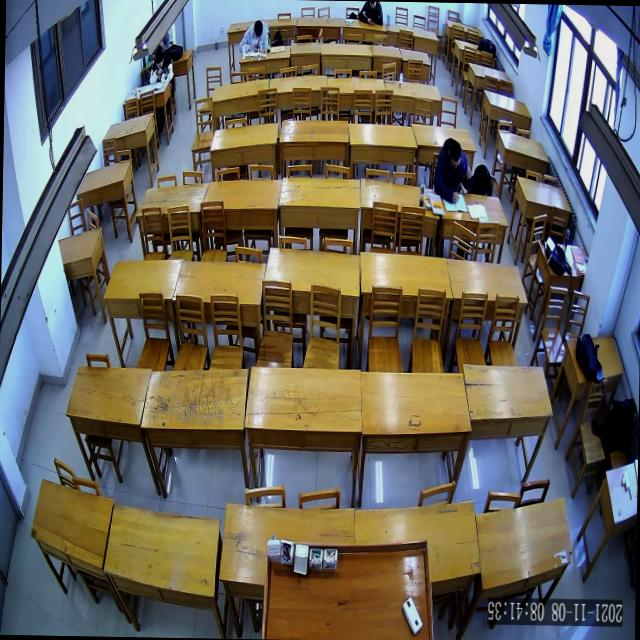down: (448, 140, 462, 170), (154, 50, 164, 70), (253, 20, 263, 40)
sit: (432, 137, 473, 204), (238, 18, 269, 53), (149, 49, 174, 84)
